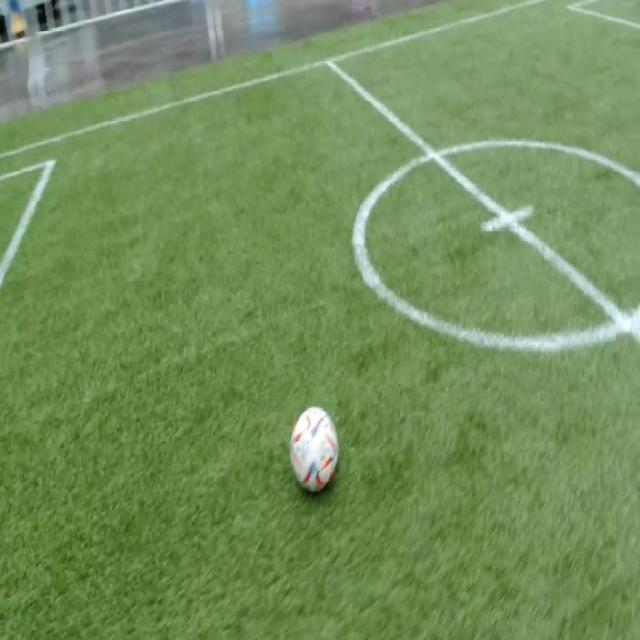ball: (290, 407, 338, 494)
